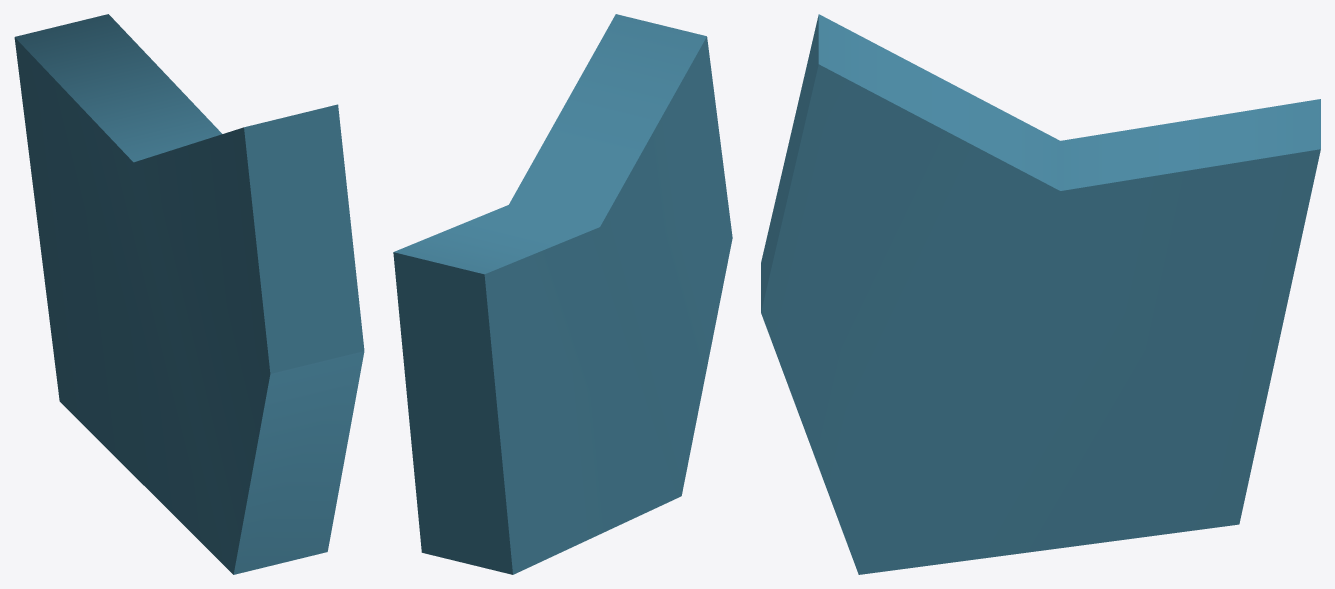
Rendered from NexusC_Trigger_11.fbx.
3 renders of one model, left to right at view 1: azimuth 30°, elevation 25°; view 2: azimuth 150°, elevation 25°; view 3: azimuth 270°, elevation 25°, orthographic. The views are drawn at different scales.
Parts seen in each view (by area): view 1: polySurface48; view 2: polySurface48; view 3: polySurface48.
Boxes of the visible parts, box(x1,y1,x2,y2) form: polySurface48: box(14, 14, 364, 574); polySurface48: box(393, 14, 732, 574); polySurface48: box(761, 14, 1320, 574).
Size of the model in its own units: 9.99 by 43.33 by 43.41.
